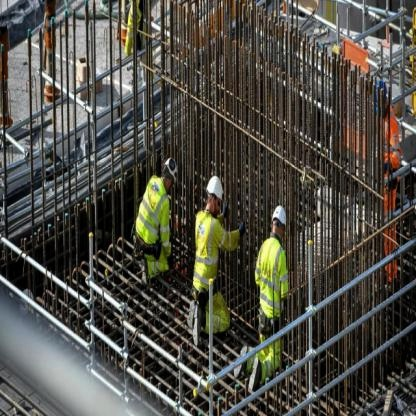vest: (189, 210, 230, 288), (254, 236, 290, 315), (133, 175, 173, 243)
white: (205, 171, 225, 203), (162, 153, 181, 181), (270, 202, 288, 229)
